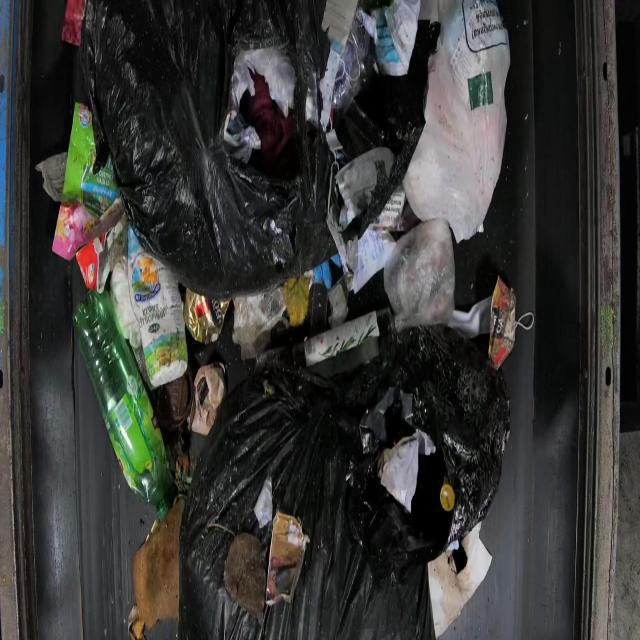other-trash: (46, 0, 525, 638)
